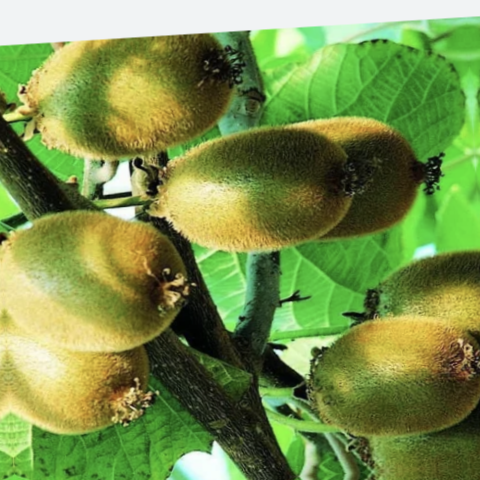kiwi: (20, 0, 269, 183), (138, 104, 368, 278), (0, 173, 192, 361), (301, 301, 480, 457)
